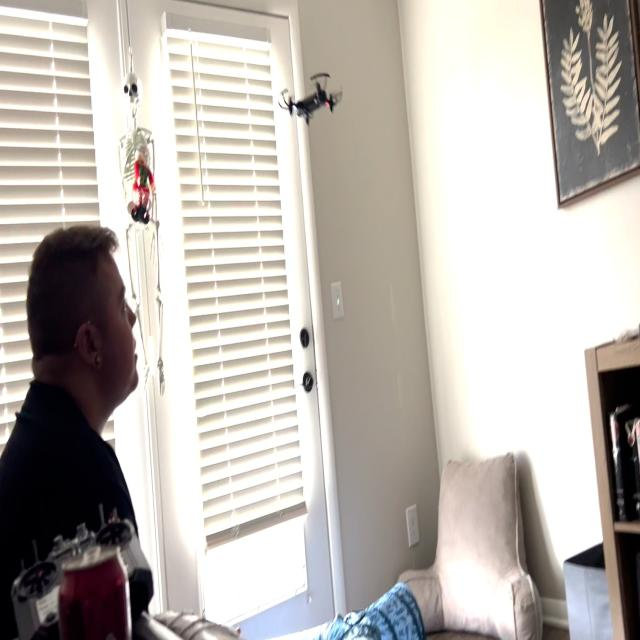drone: (271, 58, 347, 136)
